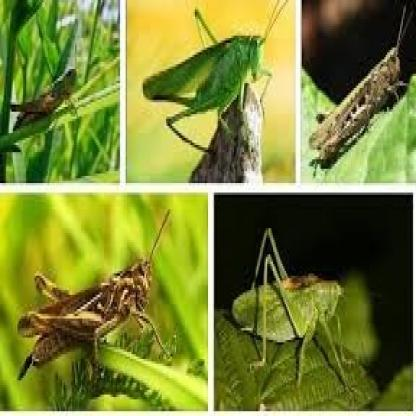grasshopper: (20, 215, 182, 372), (141, 10, 289, 158), (230, 224, 360, 386), (309, 18, 411, 170), (10, 47, 83, 128)
